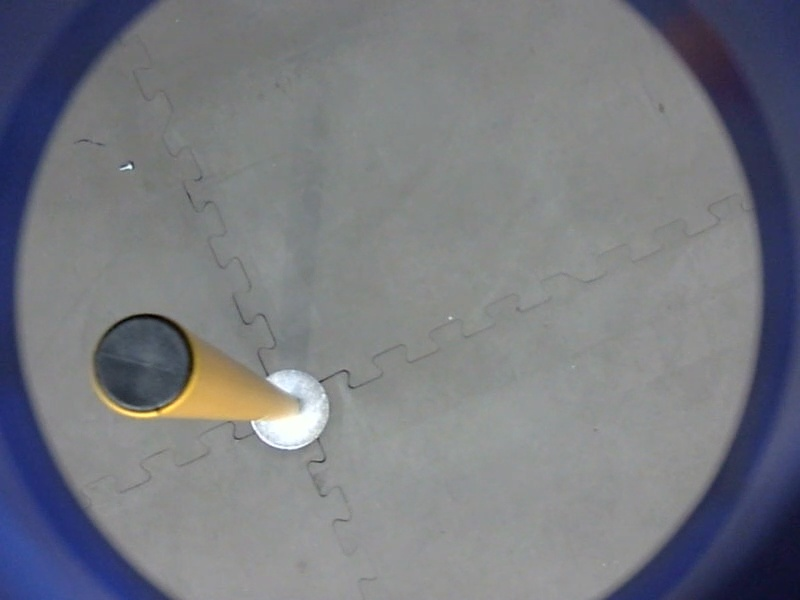tip: (81, 303, 205, 426)
